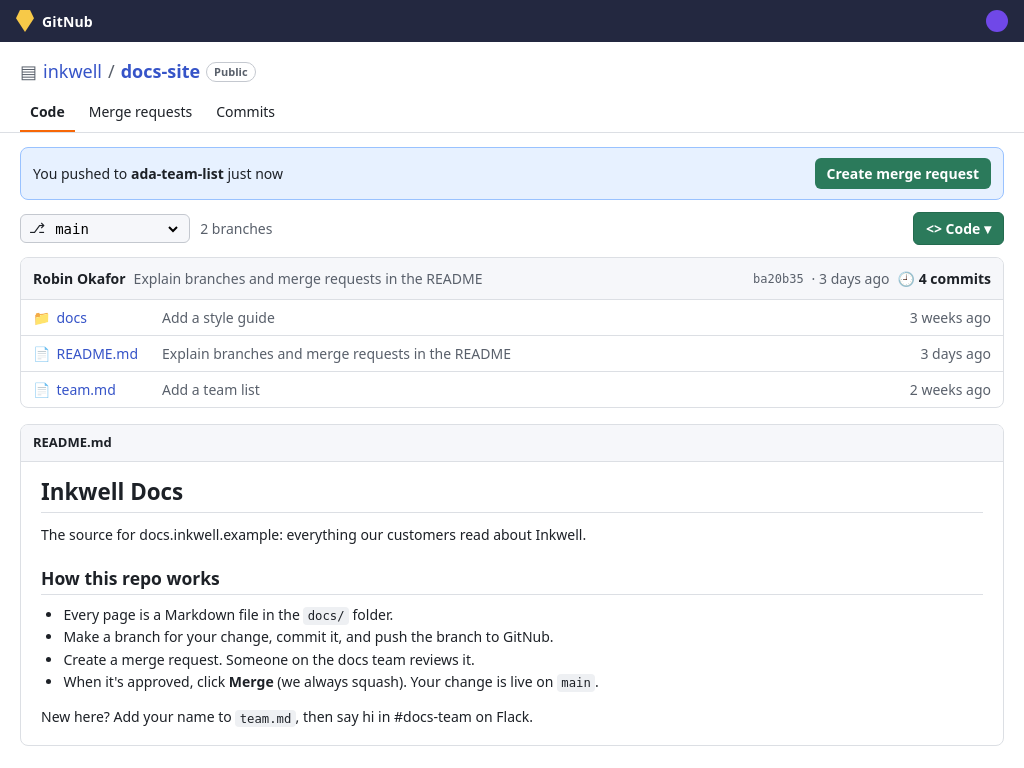
it: the merge request page › Merge squashes into one commit on main, as previewed, and deletes the source branch
Click the link "Create merge request": (903, 174) [814,158,991,189]
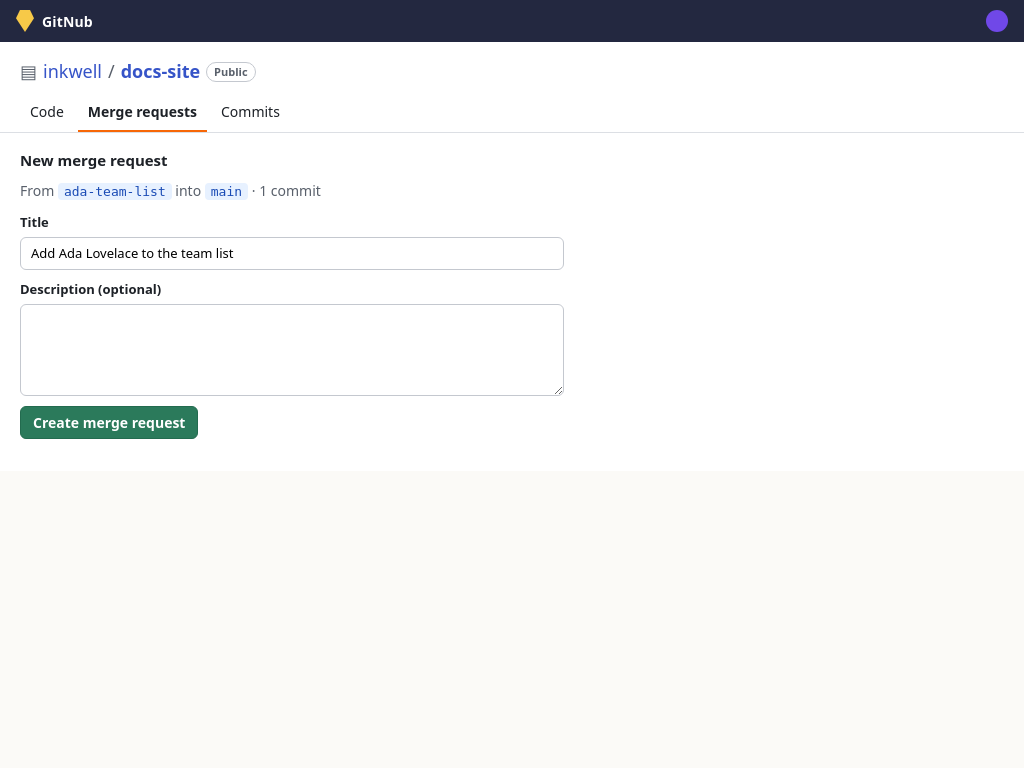
Click the button "Create merge request": (109, 422) [20,406,198,438]
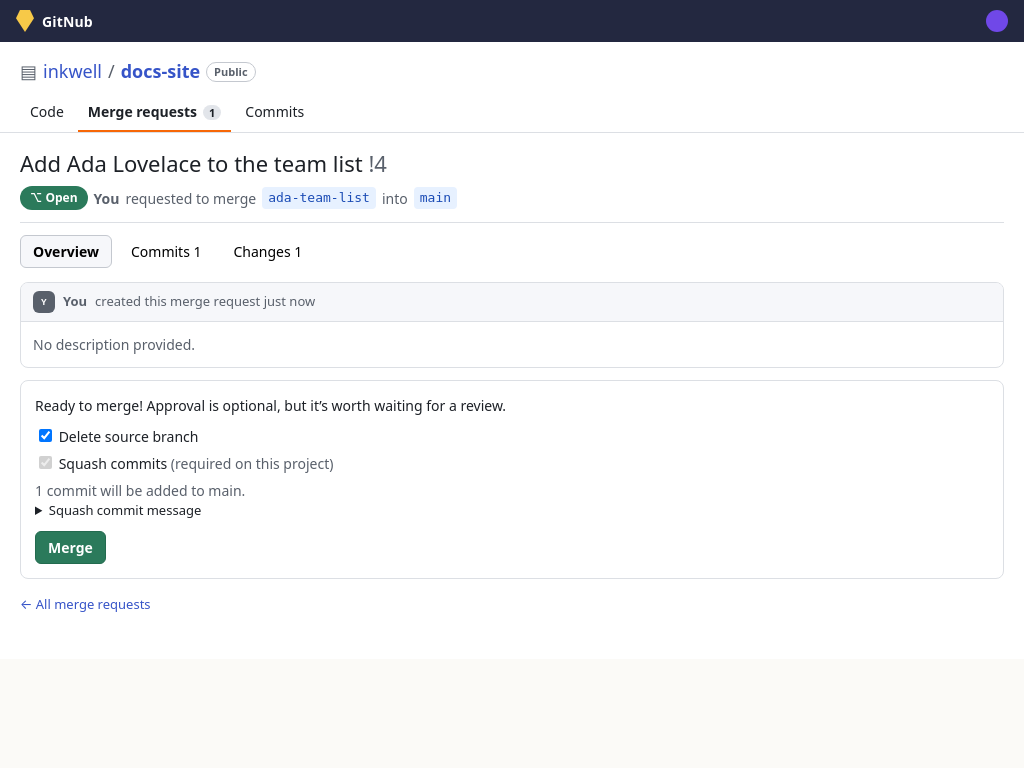
Check: the checkbox labelled "Squash commits (required on this project)" is checked, box [39,456,52,469]
Check: the checkbox labelled "Squash commits (required on this project)" is disabled, box [39,456,52,469]
Check: the checkbox labelled "Delete source branch" is checked, box [39,429,52,442]
Click the button "Merge": (70, 547) [35,530,106,564]
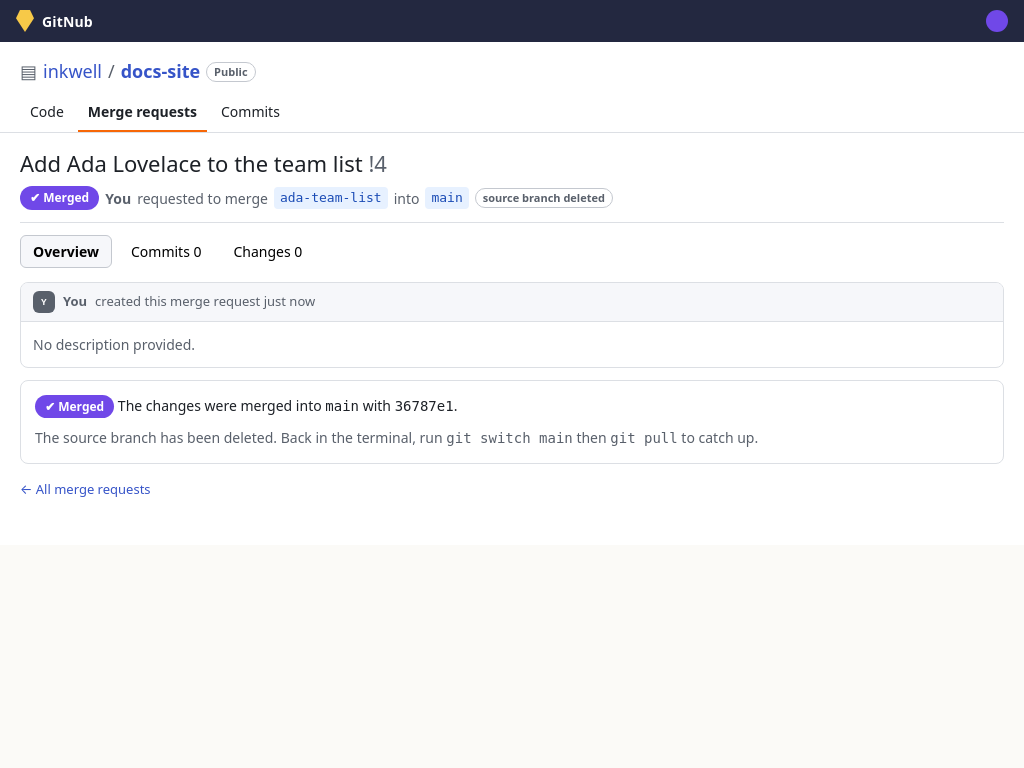
Check: the text "✔ Merged The changes were merged into main with 36787e1." is shown, box [35,395,457,418]
Check: the text "The source branch has been deleted" is shown, box [35,428,443,447]
